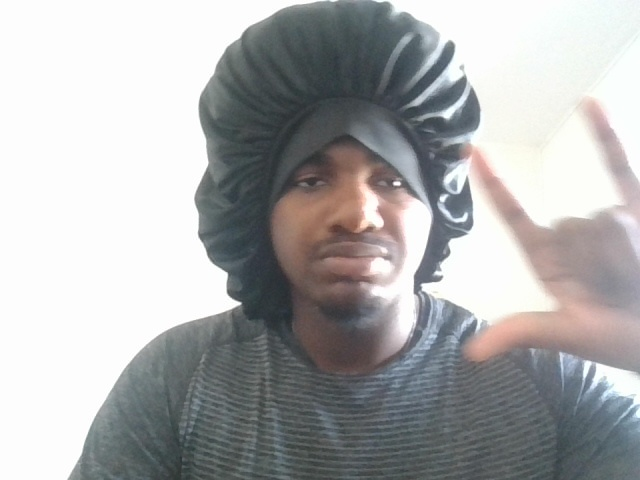I Love You: (431, 114, 640, 373)
